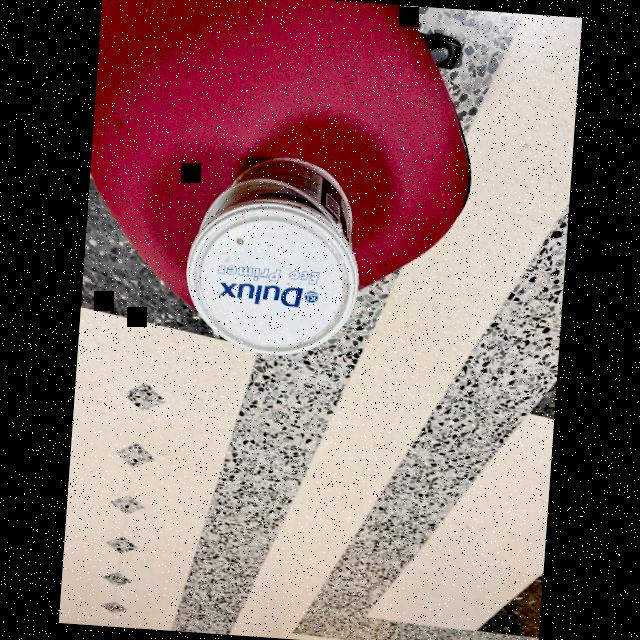paint_bucket: (186, 143, 366, 364)
